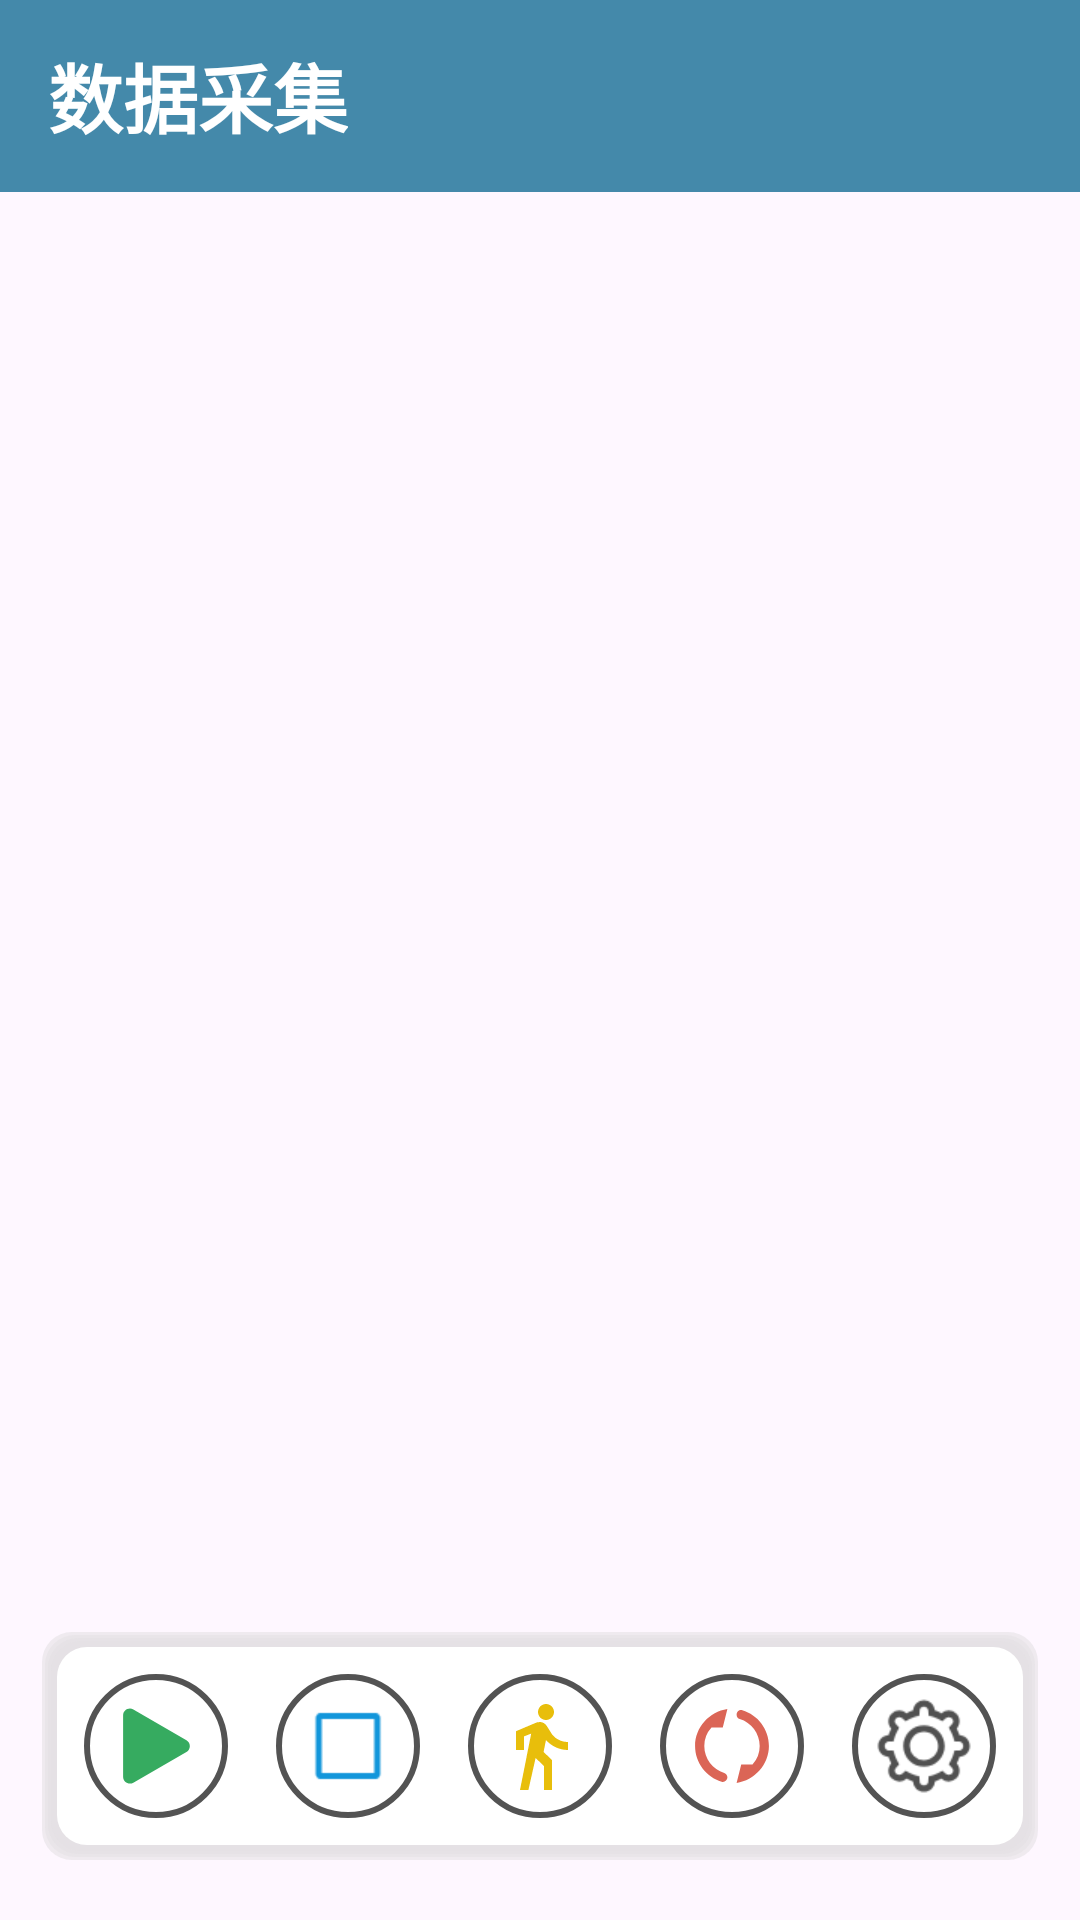

Locate icon controls on the screen. Image size 1080px x 1920px, boxes as (x1, y1, x2, y2).
Settings: (852, 1674, 996, 1818)
Start: (84, 1674, 228, 1818)
Stop: (276, 1674, 420, 1818)
